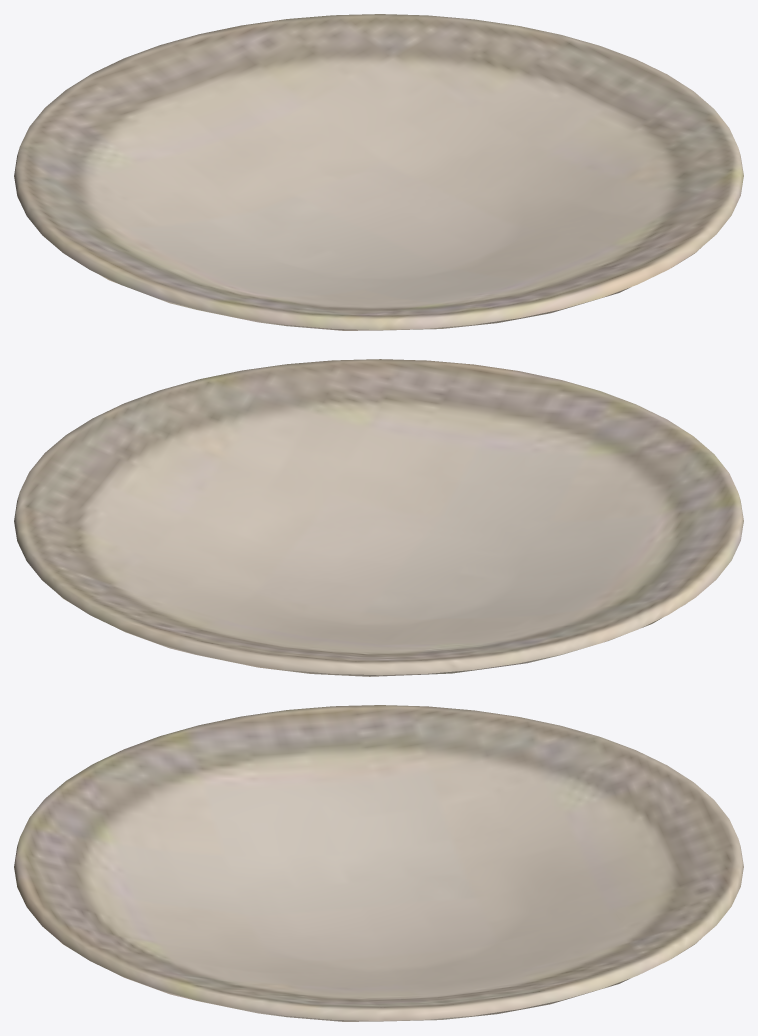
File: saucer.glb
The picture shows the model from 3 angles, top to bottom: view 1: azimuth 30°, elevation 25°; view 2: azimuth 150°, elevation 25°; view 3: azimuth 270°, elevation 25°; orthographic projection.
Visible parts, largest first — view 1: tea_set_01_saucer_circular_03; view 2: tea_set_01_saucer_circular_03; view 3: tea_set_01_saucer_circular_03.
Boxes of the visible parts, x1=… form: tea_set_01_saucer_circular_03: x1=14, y1=14, x2=743, y2=330; tea_set_01_saucer_circular_03: x1=14, y1=359, x2=743, y2=676; tea_set_01_saucer_circular_03: x1=14, y1=705, x2=743, y2=1021.
Bounding box in the file's own units: 0.1489 × 0.0158 × 0.1489.
Materials: 1 (1 with a texture image).
